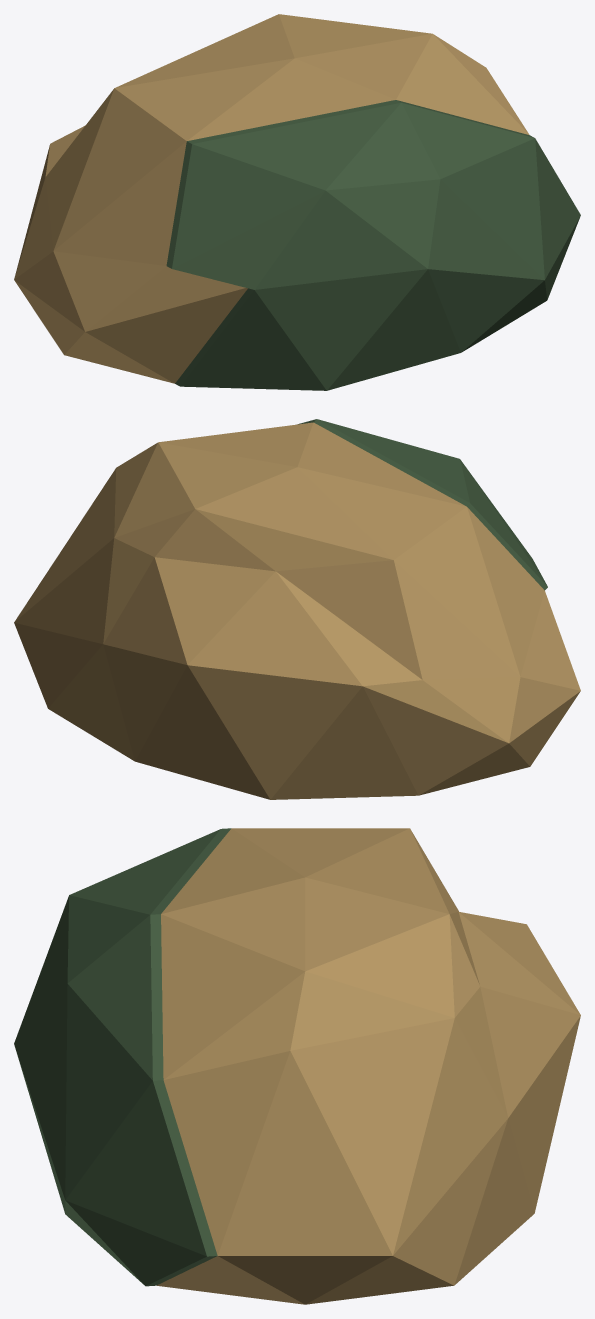
The model's file is MossStone2S.fbx.
3 views of the same model, one above another, from view 1: azimuth 30°, elevation 25°; view 2: azimuth 150°, elevation 25°; view 3: azimuth 270°, elevation 25° (orthographic). The views are drawn at different scales.
Visible parts, largest first — view 1: MossStone2S; view 2: MossStone2S; view 3: MossStone2S.
Boxes of the visible parts, x1,y1,x2,y2 form: MossStone2S: (14, 14, 580, 390); MossStone2S: (14, 419, 580, 799); MossStone2S: (14, 828, 580, 1304).
Size of the model in its own units: 493 by 231 by 400.
